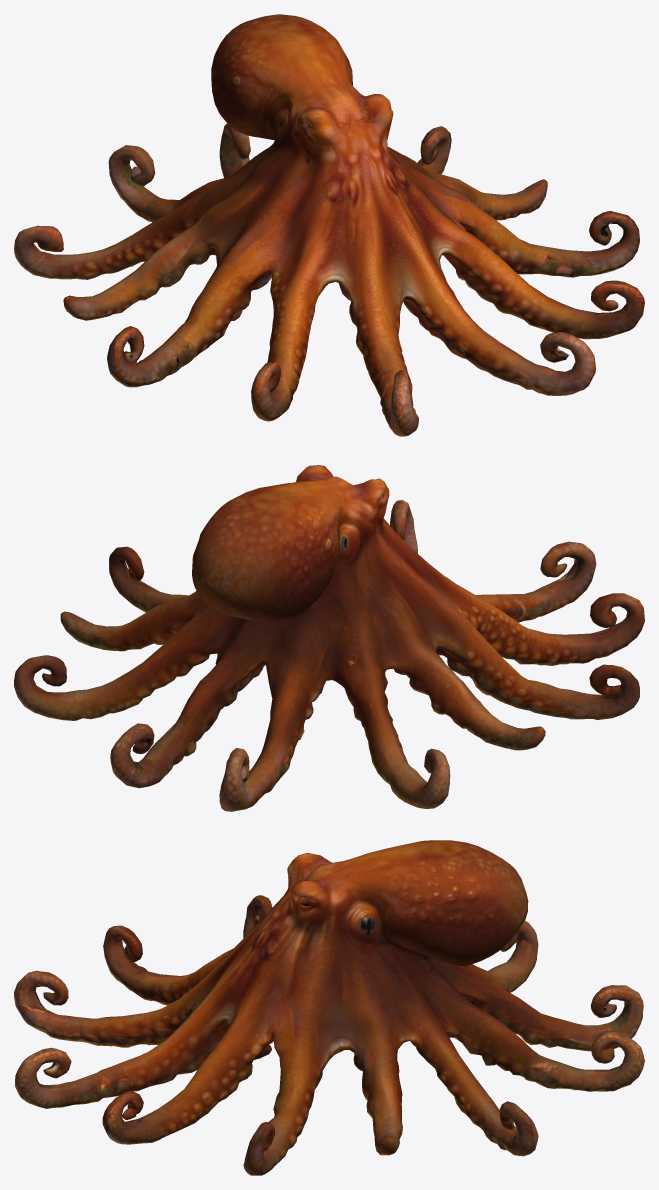
Rendered from octopus.glb.
3 views of the same model, one above another, from view 1: azimuth 30°, elevation 25°; view 2: azimuth 150°, elevation 25°; view 3: azimuth 270°, elevation 25° (orthographic). The views are drawn at different scales.
Bounding box in the file's own units: 1.85 × 0.7918 × 1.99.
Materials: 1 (1 with a texture image).
